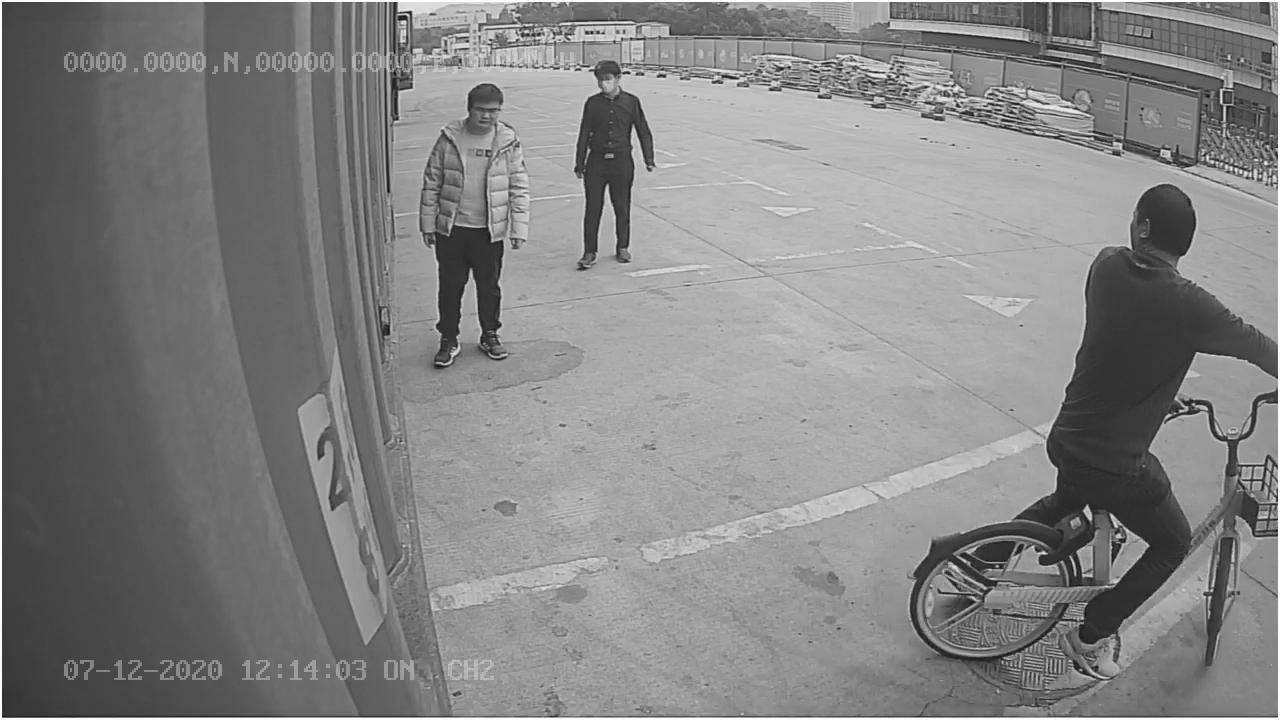person: (418, 76, 531, 368), (554, 54, 667, 275)
